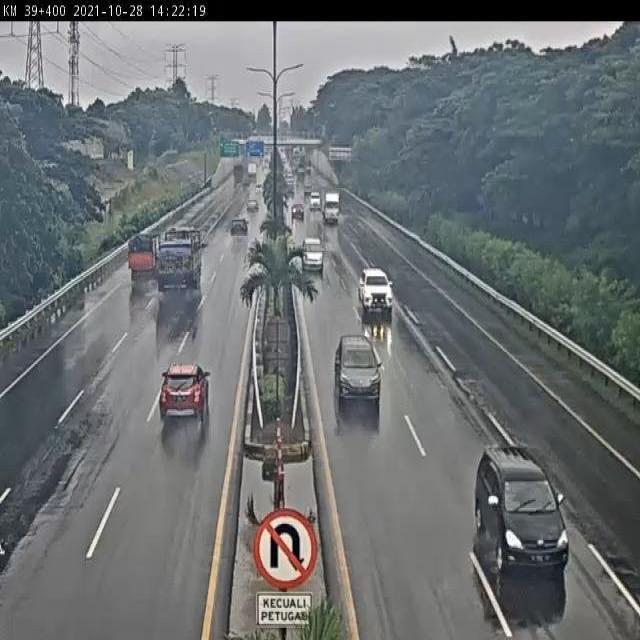car: (472, 439, 574, 575), (330, 327, 384, 403), (158, 364, 211, 427), (356, 266, 397, 314), (301, 235, 326, 271), (227, 214, 249, 242), (289, 199, 306, 221), (245, 193, 260, 216)
truck: (152, 226, 205, 294), (126, 232, 162, 283), (321, 187, 343, 228)
